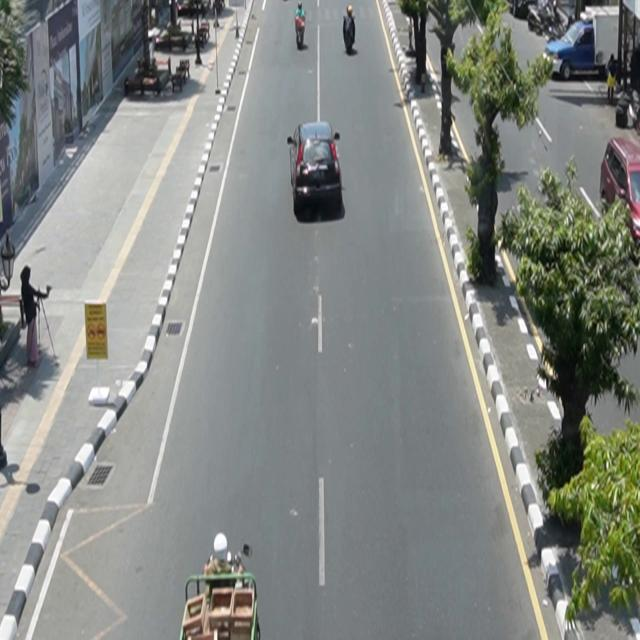car: (288, 121, 343, 217), (600, 136, 640, 248)
